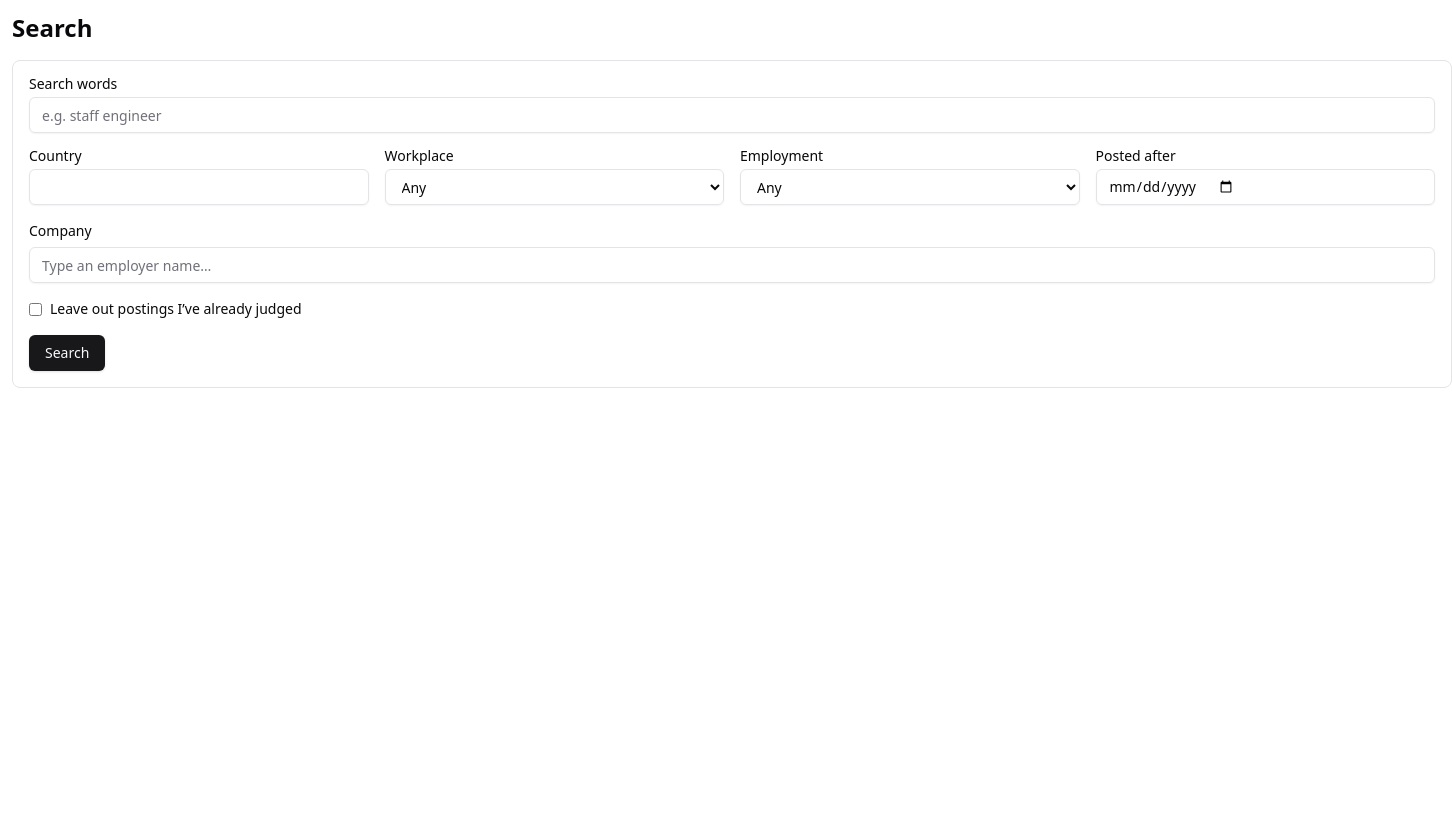
Test: SearchView › runs the search on submit and renders the results
Type "engineer" into the field labelled "Search words" at {"x": 732, "y": 115}, box [29,97,1435,133]
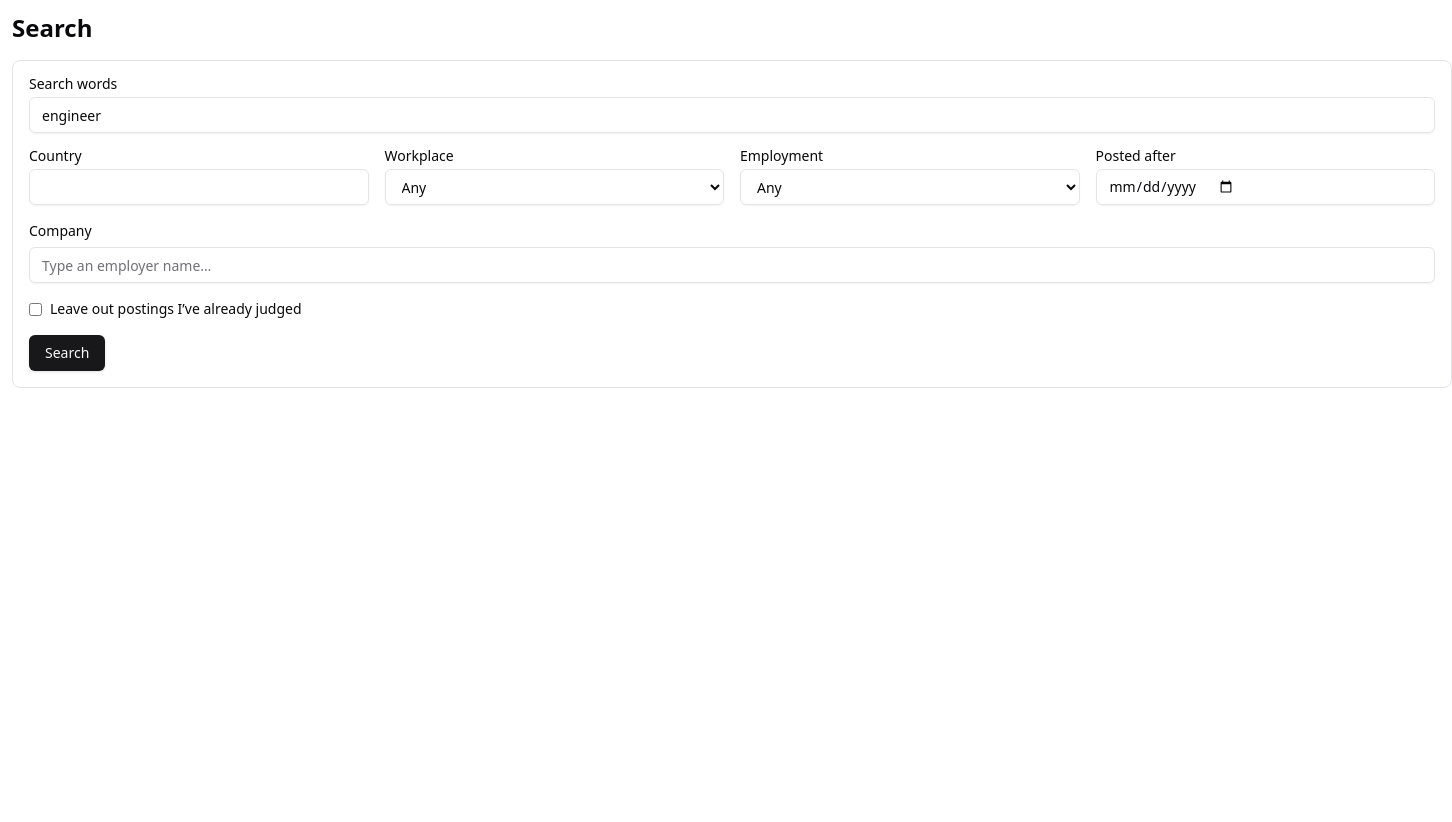
Click the button "Search" at {"x": 67, "y": 353}, box [29,335,105,371]
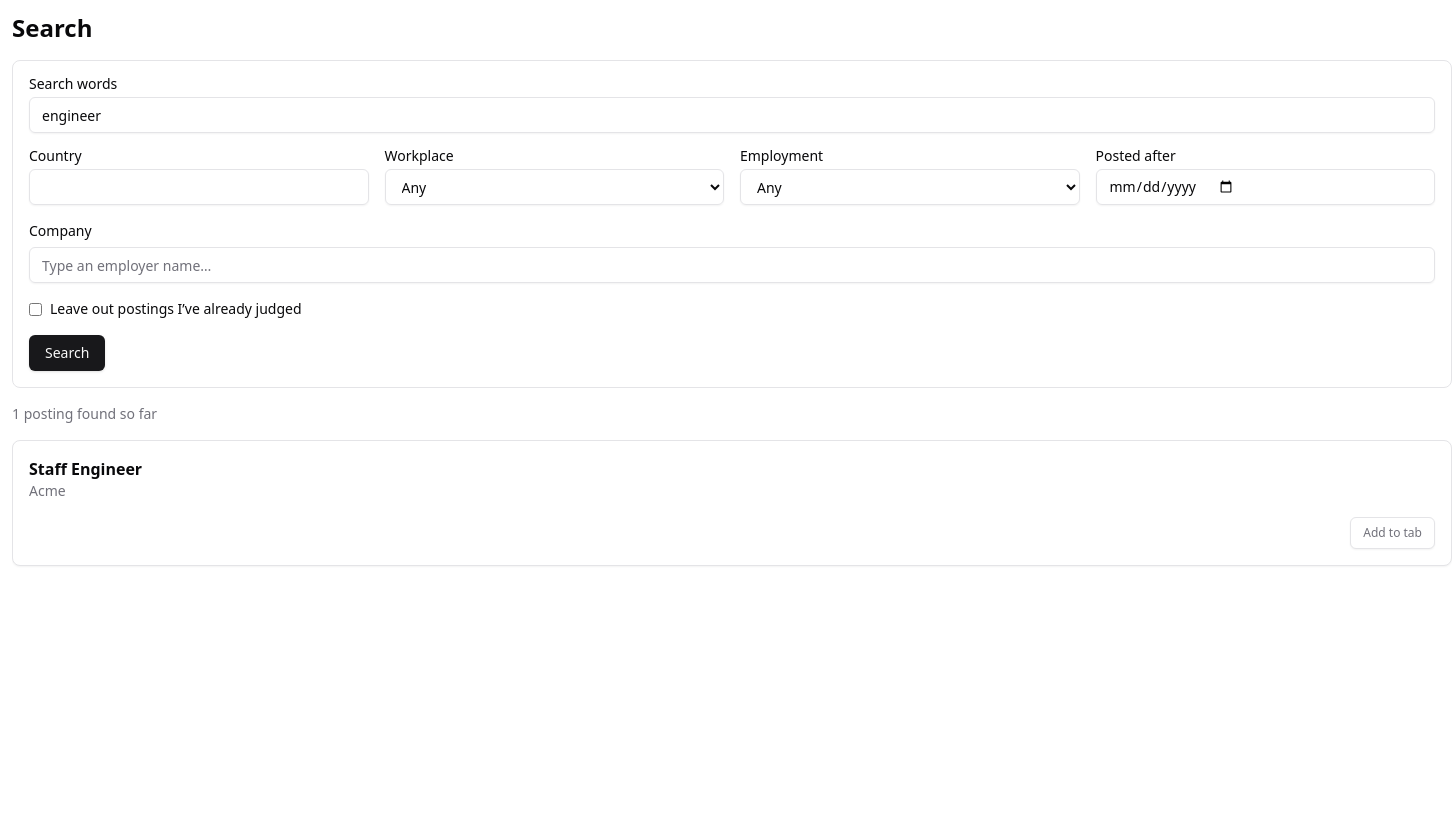
Check: the link "Staff Engineer" is shown, box [29,458,142,480]
